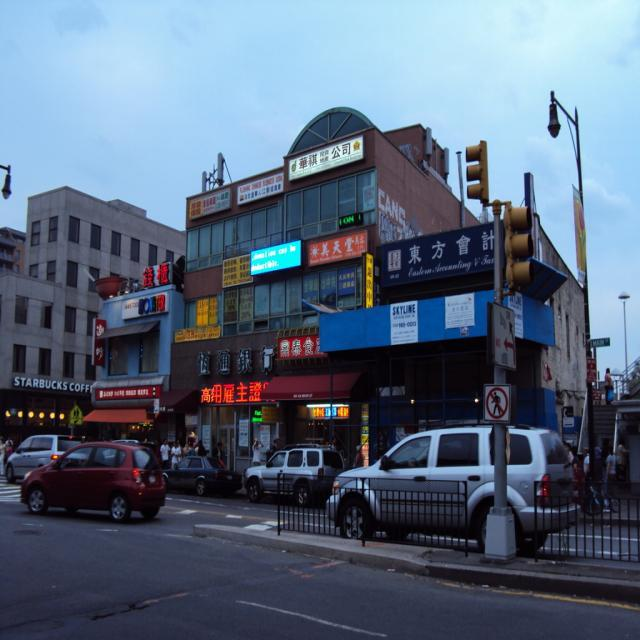off traffic light: (500, 199, 538, 296), (465, 139, 490, 210)
road_sign: (484, 386, 510, 422)
